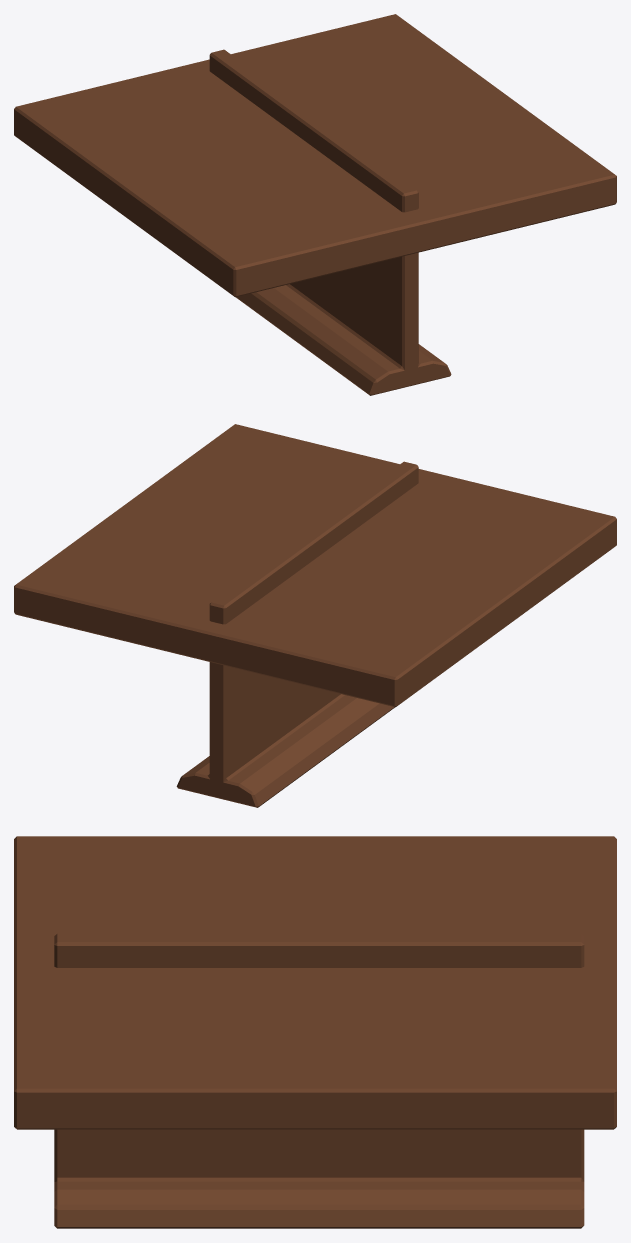
The model's file is Folding Table_Half.fbx.
3 views of the same model, one above another, from view 1: azimuth 30°, elevation 25°; view 2: azimuth 150°, elevation 25°; view 3: azimuth 270°, elevation 25° (orthographic). The views are drawn at different scales.
Parts seen in each view (by area): view 1: Folding Table.001, Folding Table_Stand.Half; view 2: Folding Table.001, Folding Table_Stand.Half; view 3: Folding Table.001, Folding Table_Stand.Half.
Boxes of the visible parts, box(x1,y1,x2,y2) form: Folding Table.001: box(14, 14, 616, 297); Folding Table_Stand.Half: box(209, 49, 451, 395); Folding Table.001: box(14, 424, 616, 707); Folding Table_Stand.Half: box(176, 461, 418, 807); Folding Table.001: box(14, 836, 616, 1129); Folding Table_Stand.Half: box(54, 933, 584, 1228).
Size of the model in its own units: 200 by 96.72 by 200.
